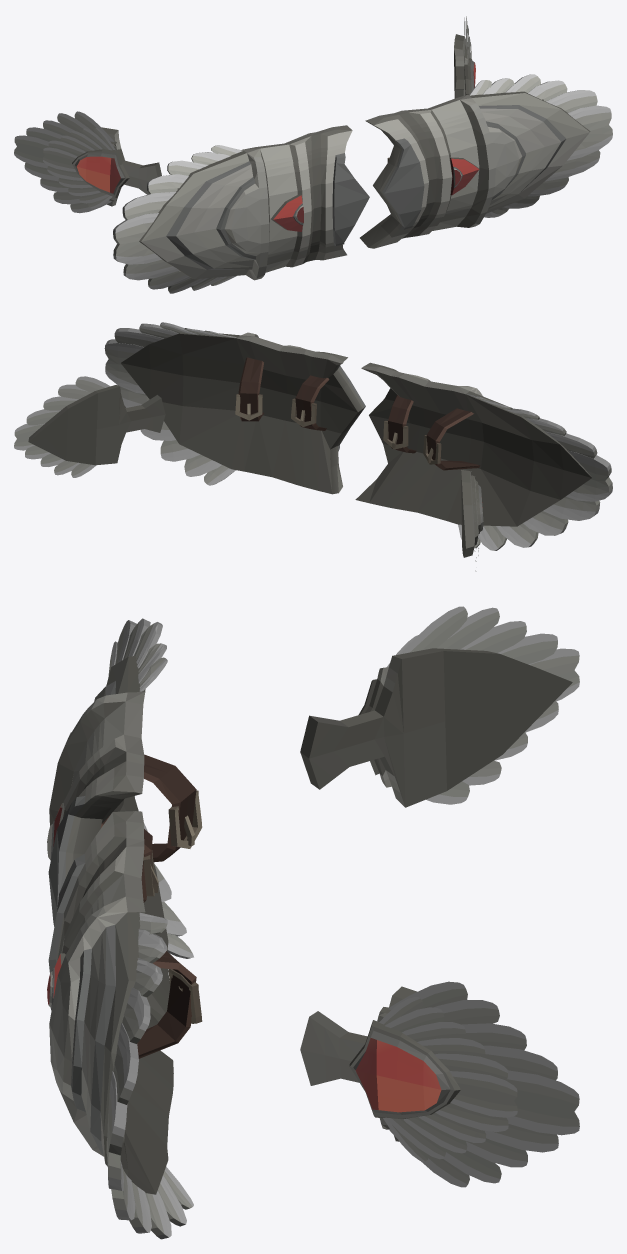
The model's file is smallCrossbowLostCrownTip.glb.
3 views of the same model, one above another, from view 1: azimuth 30°, elevation 25°; view 2: azimuth 150°, elevation 25°; view 3: azimuth 270°, elevation 25° (orthographic). The views are drawn at different scales.
Parts seen in each view (by area): view 1: smallCrossbowLostCrownTip; view 2: smallCrossbowLostCrownTip; view 3: smallCrossbowLostCrownTip.
Part boxes in pixels (bbox=[...]): smallCrossbowLostCrownTip: bbox=[14, 16, 612, 293]; smallCrossbowLostCrownTip: bbox=[14, 322, 612, 571]; smallCrossbowLostCrownTip: bbox=[47, 606, 579, 1239].
Size of the model in its own units: 0.5902 by 0.1659 by 0.274.
